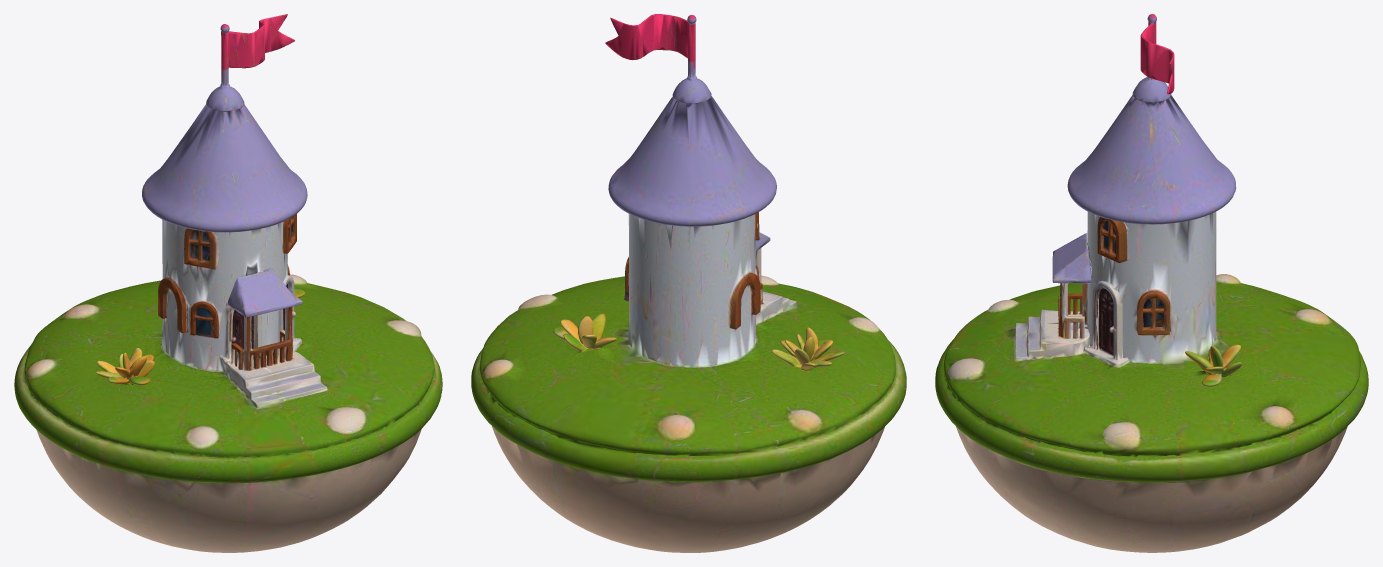
The model's file is island-tower.glb.
The picture shows the model from 3 angles, left to right: view 1: azimuth 30°, elevation 25°; view 2: azimuth 150°, elevation 25°; view 3: azimuth 270°, elevation 25°; orthographic projection.
Size of the model in its own units: 1.45 by 1.9 by 1.45.
Materials: 1 (1 with a texture image).
